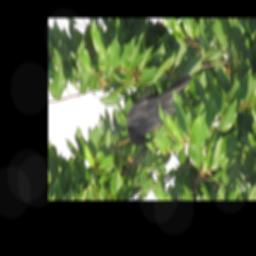Crow: (125, 75, 193, 146)
